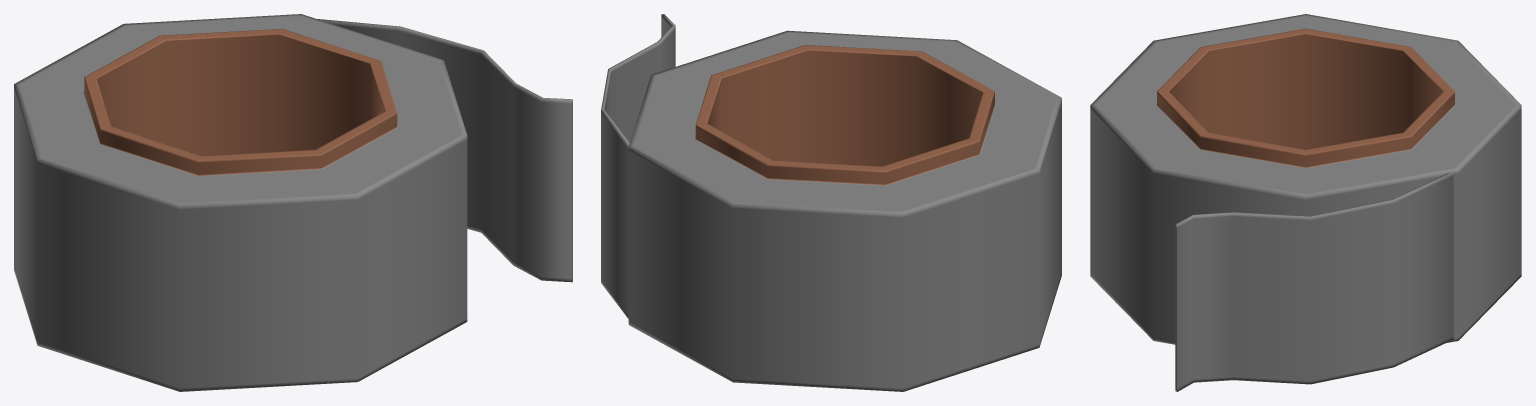
Rendered from SM_Tape.fbx.
The picture shows the model from 3 angles, left to right: view 1: azimuth 30°, elevation 25°; view 2: azimuth 150°, elevation 25°; view 3: azimuth 270°, elevation 25°; orthographic projection. The views are drawn at different scales.
Visible parts, largest first — view 1: Cylinder; view 2: Cylinder; view 3: Cylinder.
Part boxes in pixels (left/top/right/bottom): Cylinder: left=14, top=14, right=572, bottom=391; Cylinder: left=601, top=14, right=1061, bottom=391; Cylinder: left=1090, top=14, right=1521, bottom=391.
Bounding box in the file's own units: 17.18 × 7.62 × 15.
